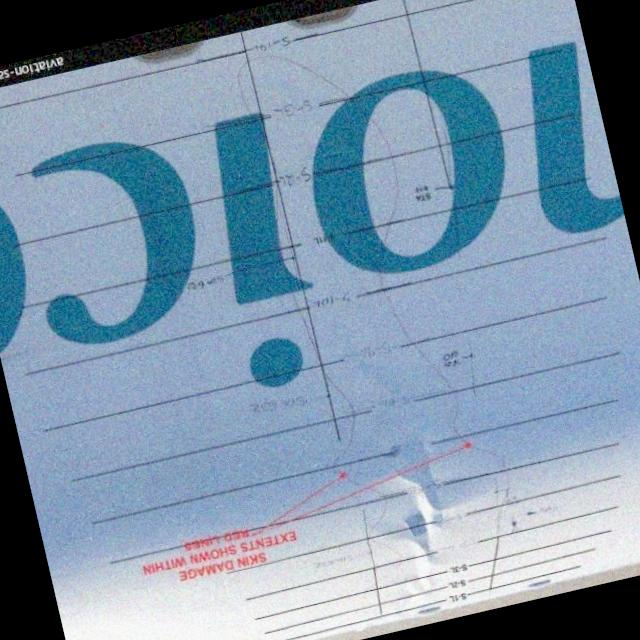dent: (391, 452, 487, 528), (394, 510, 451, 594), (380, 554, 448, 616)
